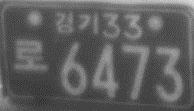3: (154, 45, 183, 103), (122, 12, 142, 40), (101, 12, 120, 39)
4: (91, 42, 119, 98)
6: (59, 42, 87, 95)
7: (121, 42, 149, 100)
경기_O: (55, 12, 98, 35)
로: (12, 38, 49, 72)
